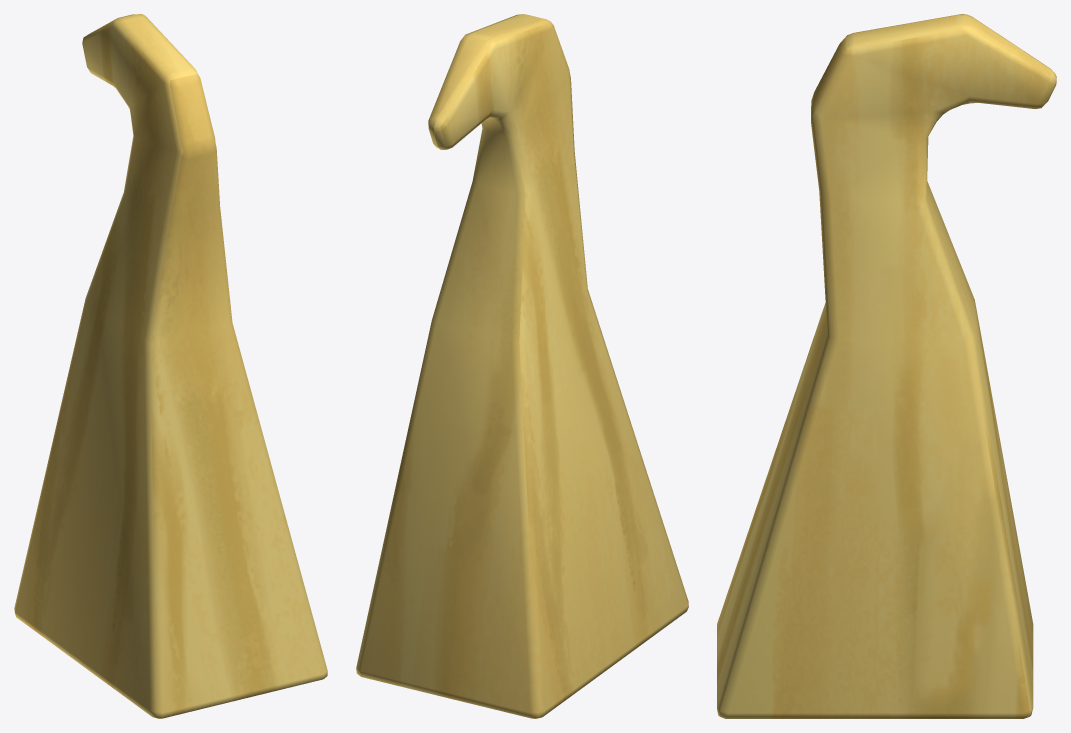
Rendered from sotilas_1.fbx.
3 views of the same model, side by side, from view 1: azimuth 30°, elevation 25°; view 2: azimuth 150°, elevation 25°; view 3: azimuth 270°, elevation 25° (orthographic). The views are drawn at different scales.
Visible parts, largest first — view 1: king.004; view 2: king.004; view 3: king.004.
Boxes of the visible parts, box(x1,y1,x2,y2) form: king.004: box(14, 14, 327, 718); king.004: box(356, 14, 688, 718); king.004: box(717, 14, 1056, 718).
Bounding box in the file's own units: 69.27 × 226 × 106.
1 material, 1 textured.
